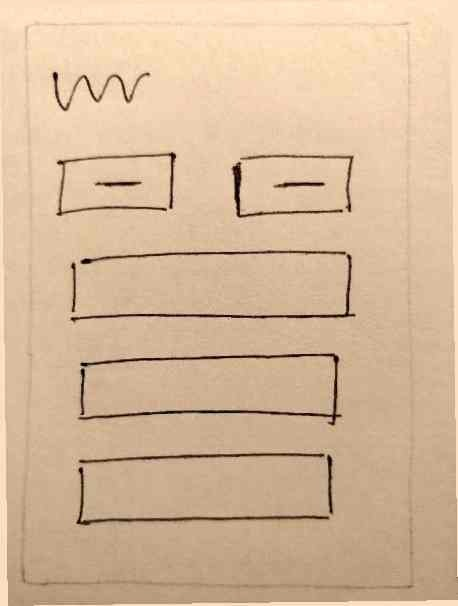button: (221, 142, 363, 227), (47, 149, 184, 226)
text: (43, 60, 156, 115)
text_input: (60, 244, 364, 335), (69, 348, 351, 434), (71, 448, 341, 535)
